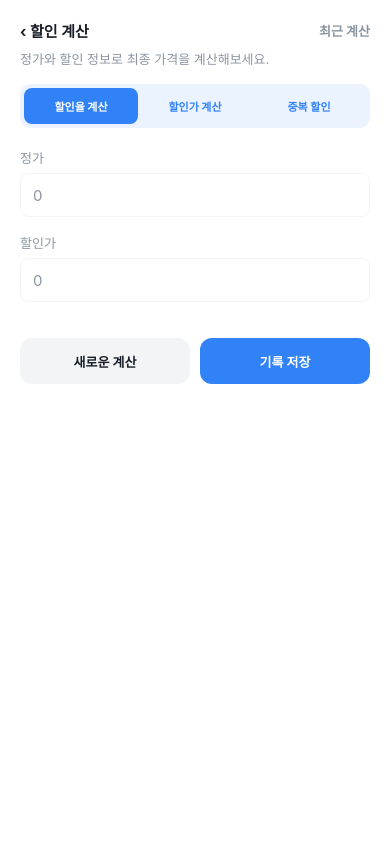
it: DiscountScreen › applies stacked discounts sequentially, not additively
Click the element with test id "mode-stacked" at (309, 107), box top-left (288, 100), bottom-right (331, 114)
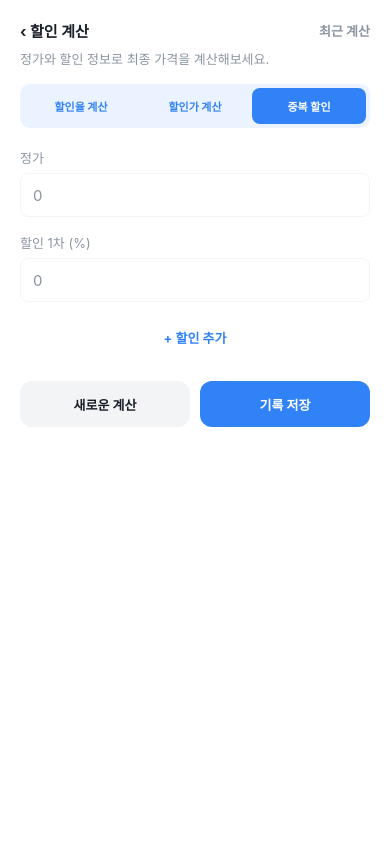
Type "10000" into the field with test id "input-regular-price" at (195, 195), box top-left (20, 173), bottom-right (370, 217)
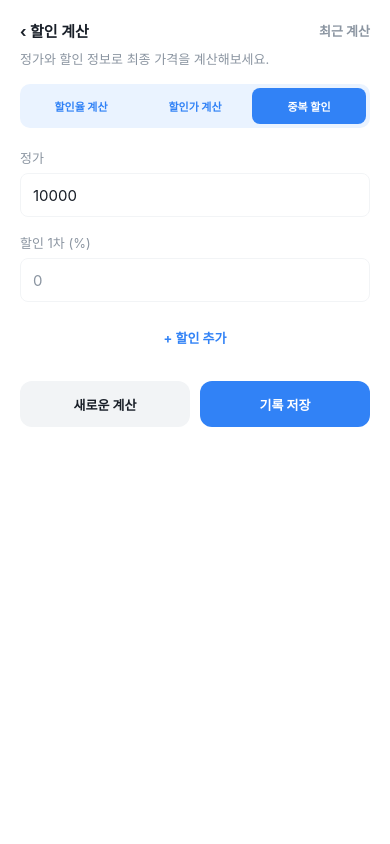
Type "20" into the field with test id "input-stacked-rate-0" at (195, 280), box top-left (20, 258), bottom-right (370, 302)
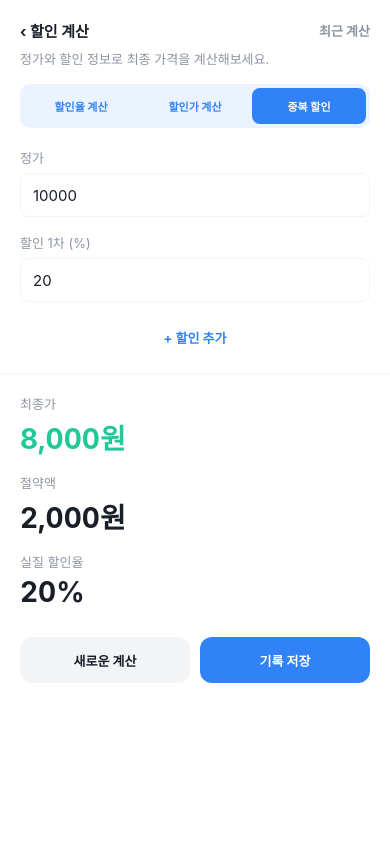
Click the element with test id "add-stacked-rate" at (195, 338), box top-left (164, 330), bottom-right (226, 346)
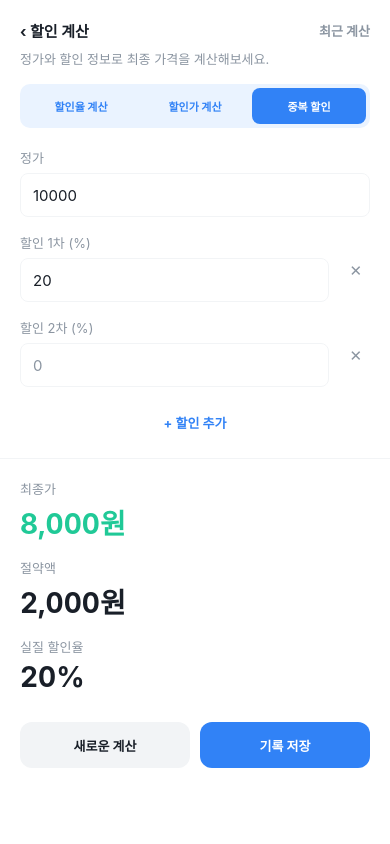
Type "10" into the field with test id "input-stacked-rate-1" at (175, 365), box top-left (20, 343), bottom-right (329, 387)
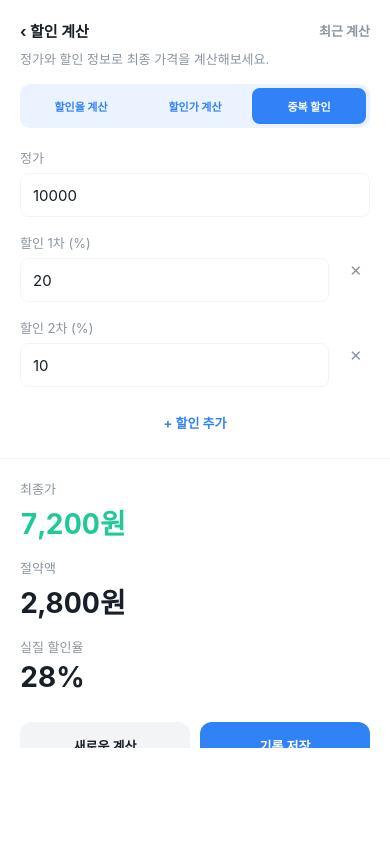
Now the text "7,200원" is shown, box top-left (20, 507), bottom-right (126, 541)
Now the text "28%" is shown, box top-left (20, 660), bottom-right (85, 694)
